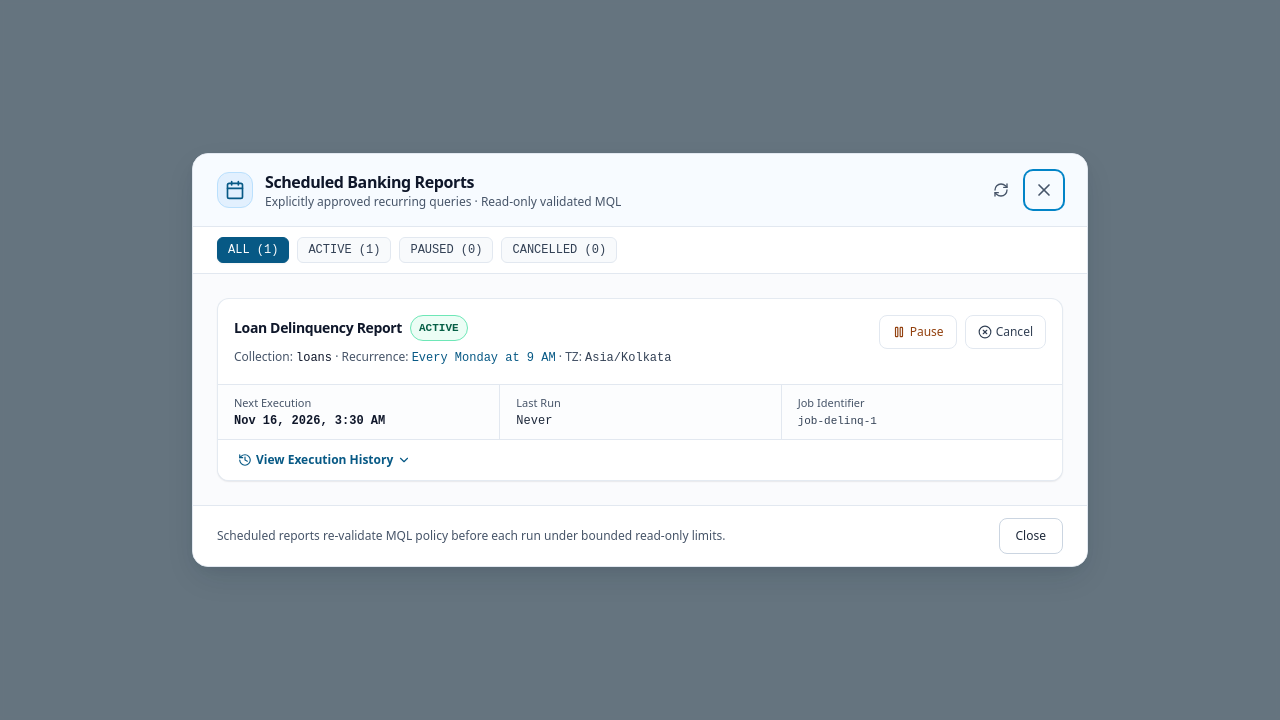
Test: FinTech Agent Frontend Chat Tests › 16. SchedulesDashboard uses accessible dialog semantics, Escape close, and in-modal cancel confirm
Later steps or results of the test are not shown.
Expected: the heading "Loan Delinquency Report" is shown, x1=234 y1=318 x2=402 y2=338
Click the button "Cancel".
click(1005, 332)  # box x1=965 y1=315 x2=1046 y2=349
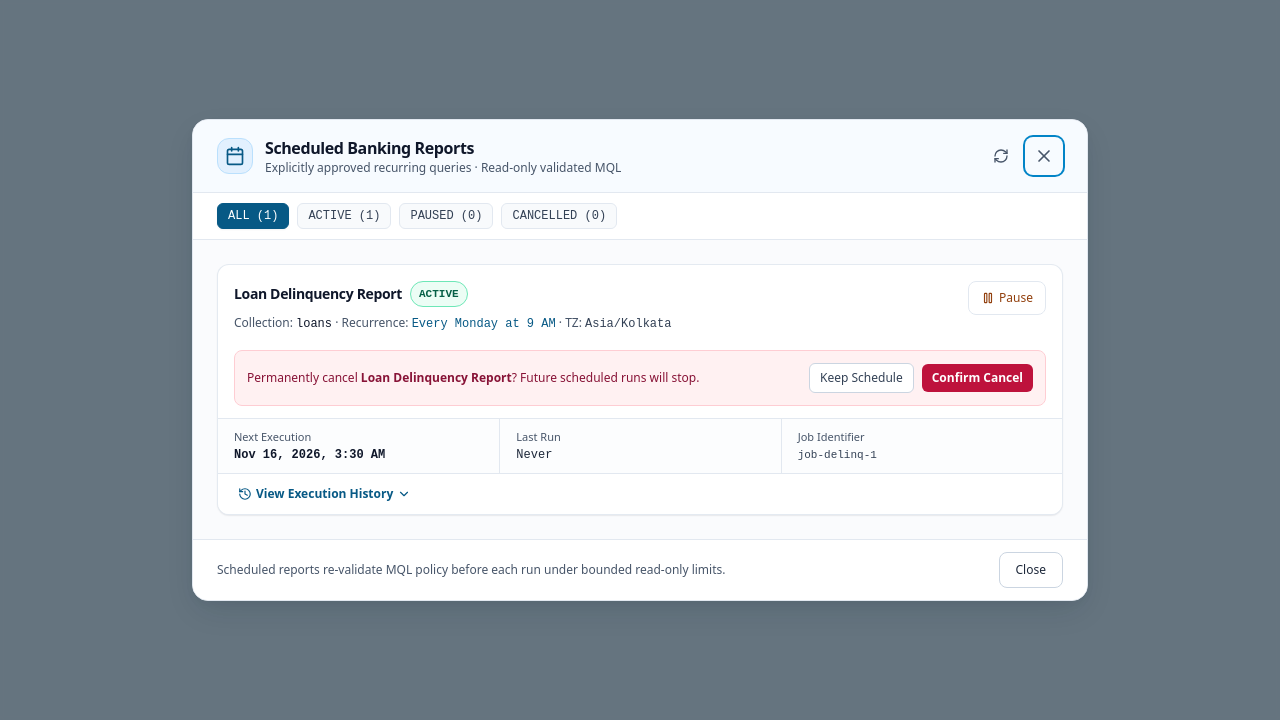
Expected: the dialog is shown, x1=234 y1=350 x2=1046 y2=406
